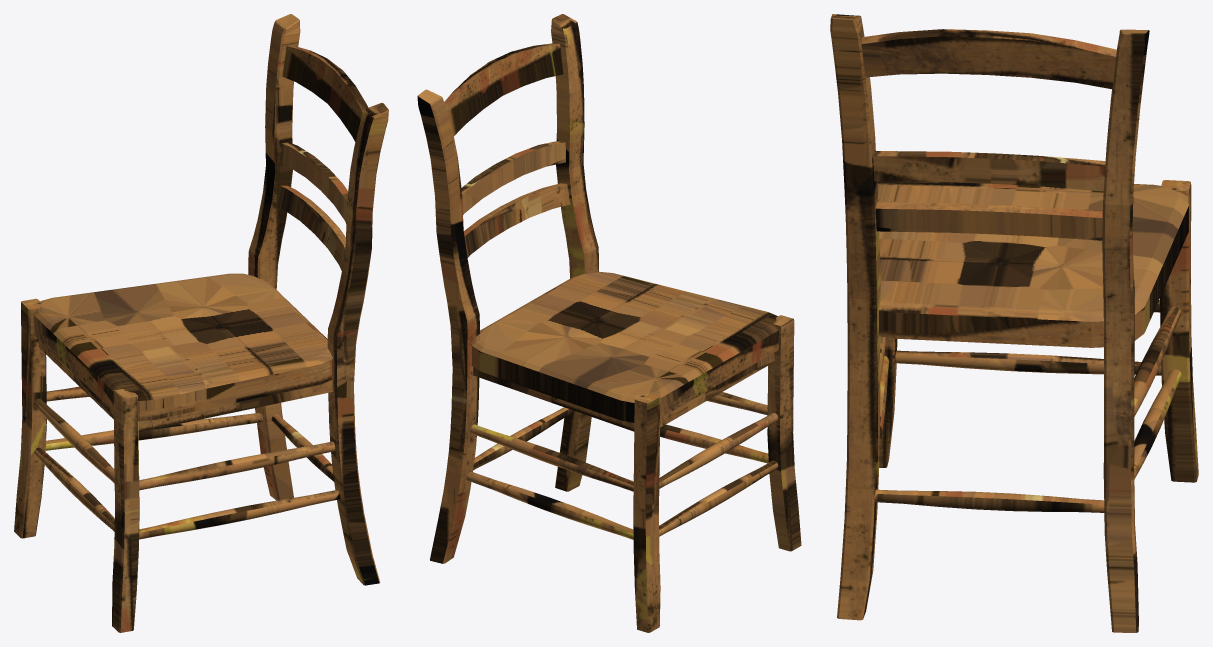
The model's file is krzeslo.obj.
The picture shows the model from 3 angles, left to right: view 1: azimuth 30°, elevation 25°; view 2: azimuth 150°, elevation 25°; view 3: azimuth 270°, elevation 25°; orthographic projection. The views are drawn at different scales.
Parts seen in each view (by area): view 1: Cube.023; view 2: Cube.023; view 3: Cube.023.
Boxes of the visible parts, x1,y1,x2,y2 form: Cube.023: [14, 14, 388, 632]; Cube.023: [417, 14, 801, 632]; Cube.023: [830, 14, 1198, 632].
Size of the model in its own units: 0.5428 by 0.8706 by 0.4803.
1 material, 1 textured.
